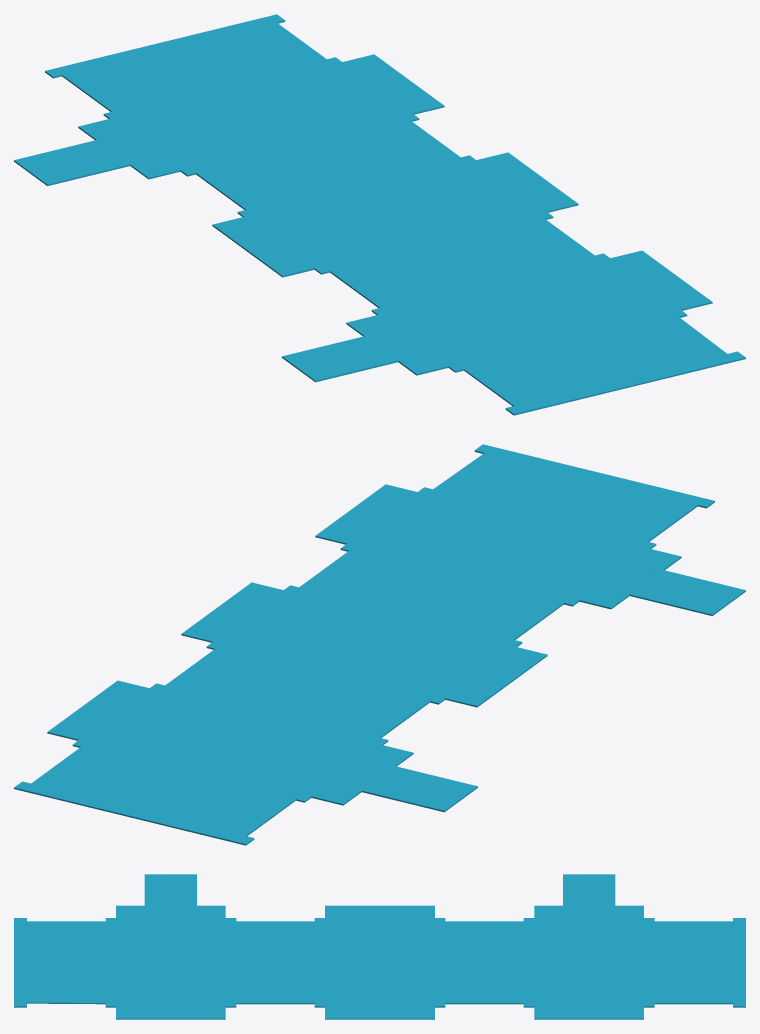
Rendered from Floor.fbx.
3 views of the same model, one above another, from view 1: azimuth 30°, elevation 25°; view 2: azimuth 150°, elevation 25°; view 3: azimuth 270°, elevation 25° (orthographic). The views are drawn at different scales.
Visible parts, largest first — view 1: Metal; view 2: Metal; view 3: Metal.
Part boxes in pixels (x1,y1,x2,y2): Metal: (14,14,745,415); Metal: (14,444,745,845); Metal: (14,874,745,1019).
Bounding box in the file's own units: 13.05 × 0.0613 × 28.
